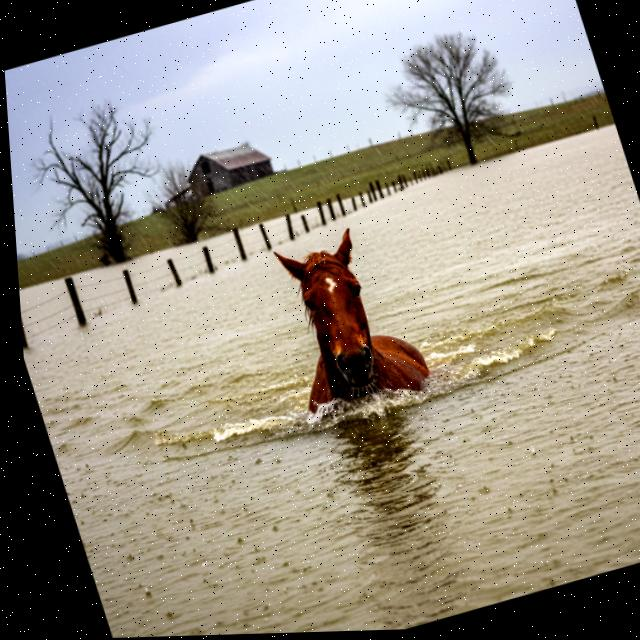horse: (246, 208, 448, 435)
